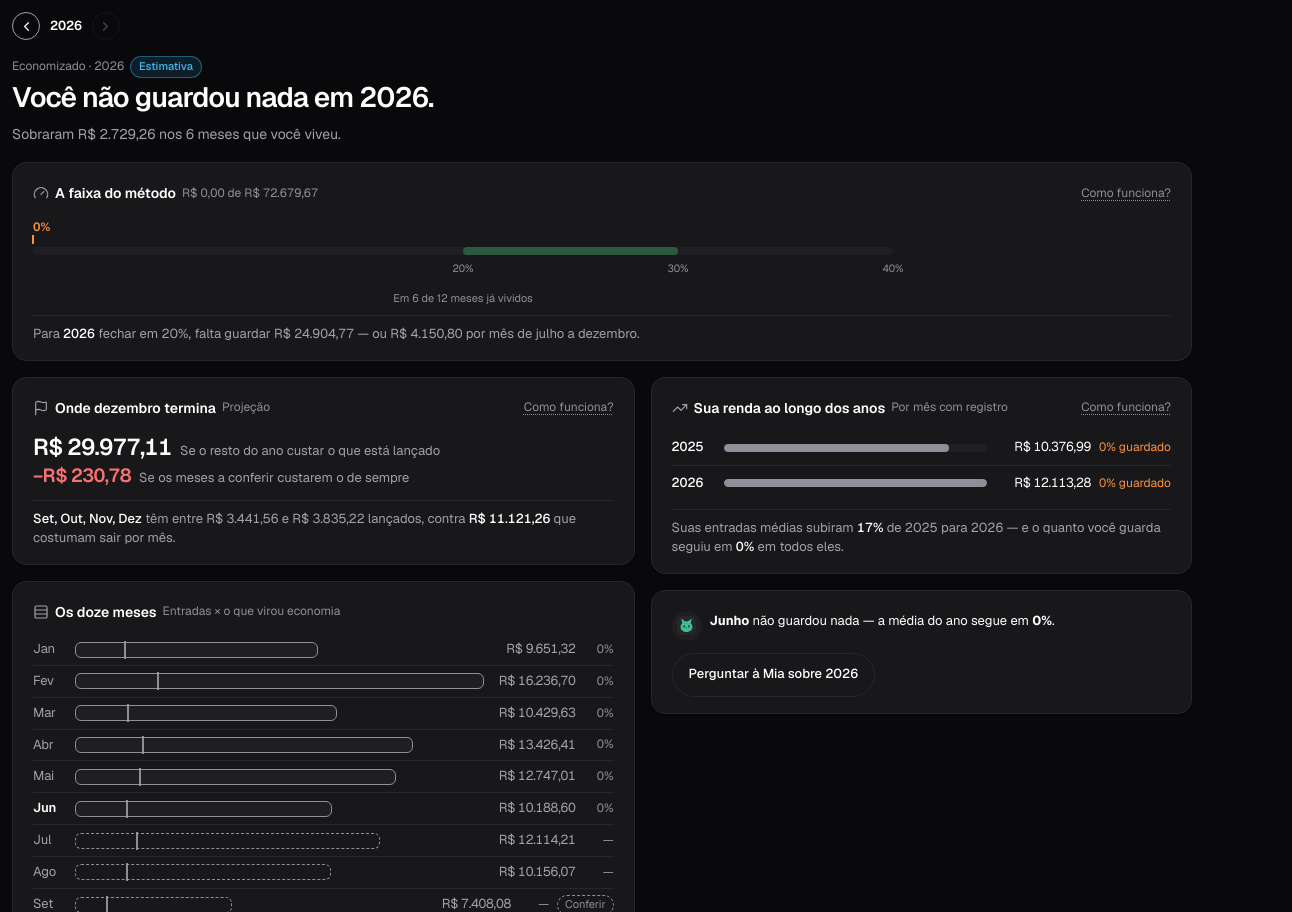
Scenario: AnnualScreen — direção Conversa com a Mia › fim do ano: os operandos ficam e a leitura dos dois cenários vai para o popover
expect the heading "Onde dezembro termina" is shown: met, box [55,398,216,418]
expect the text "A diferença entre os dois" is not shown: met
Click the button with aria-label "Como funciona? — Onde dezembro termina": (569, 408) [524,399,614,417]
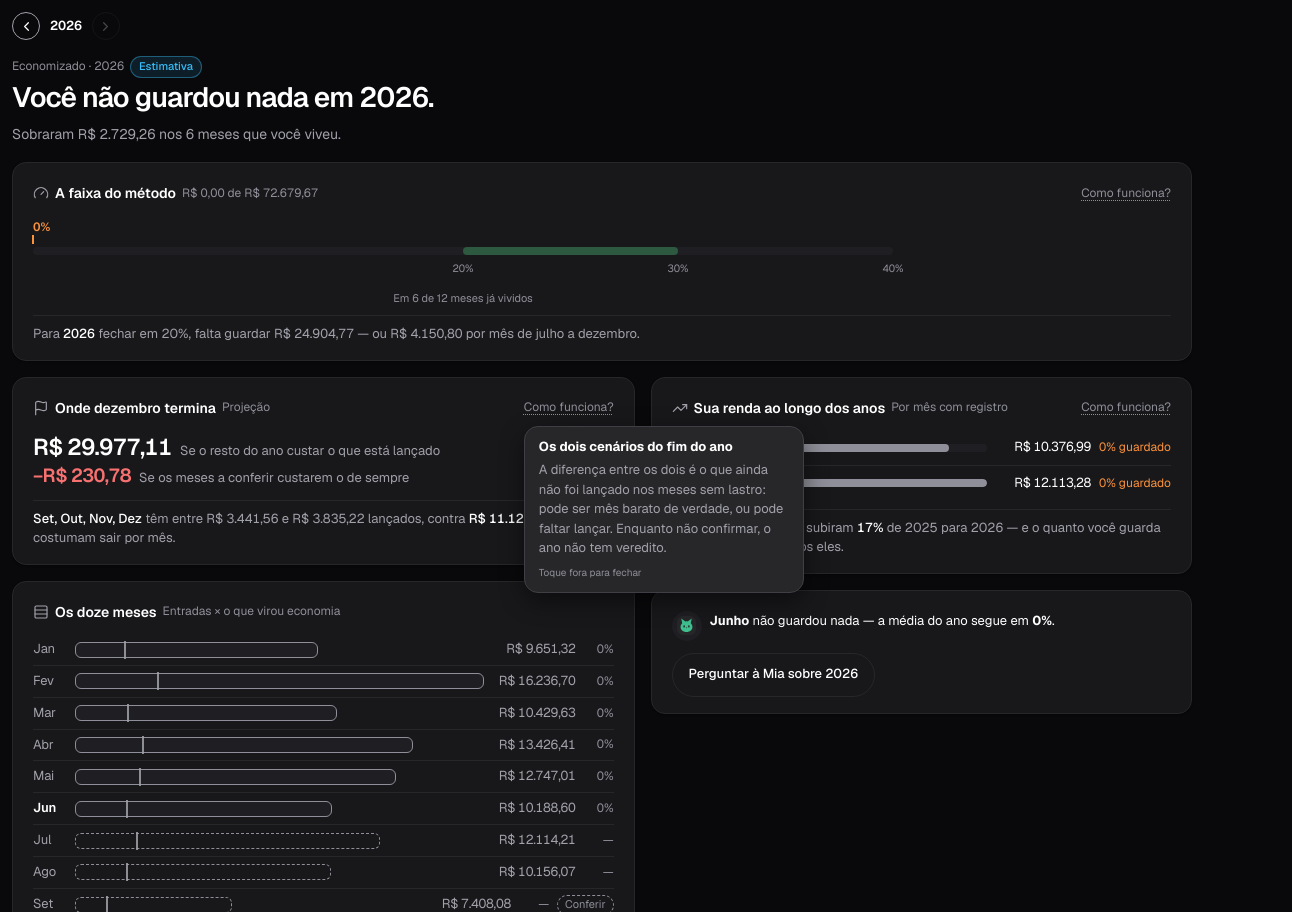
expect the tooltip shows "Enquanto não confirmar, o ano não tem veredito": met, box [539,461,783,556]
